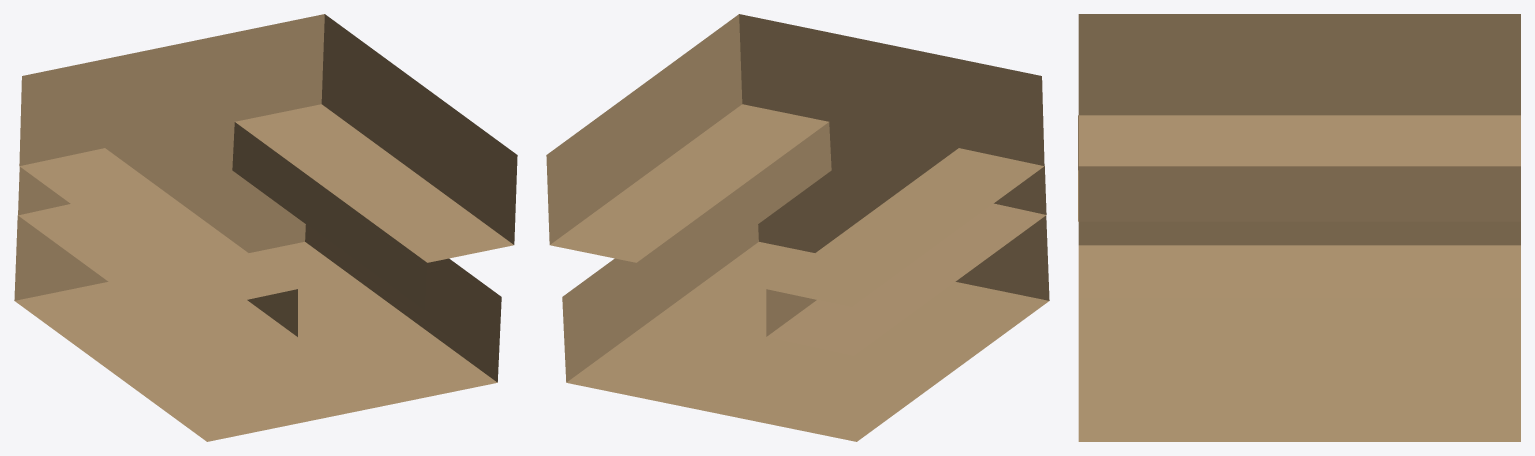
3 views of the same model, side by side, from view 1: azimuth 30°, elevation 25°; view 2: azimuth 150°, elevation 25°; view 3: azimuth 270°, elevation 25° (orthographic). The views are drawn at different scales.
Visible parts, largest first — view 1: 0_3_2_3_1_1_2_1_0; view 2: 0_3_2_3_1_1_2_1_0; view 3: 0_3_2_3_1_1_2_1_0.
Part boxes in pixels (x1=…): 0_3_2_3_1_1_2_1_0: x1=14, y1=14, x2=517, y2=441; 0_3_2_3_1_1_2_1_0: x1=546, y1=14, x2=1049, y2=441; 0_3_2_3_1_1_2_1_0: x1=1078, y1=14, x2=1520, y2=441.
Bounding box in the file's own units: 25.11 × 18.15 × 27.04.
